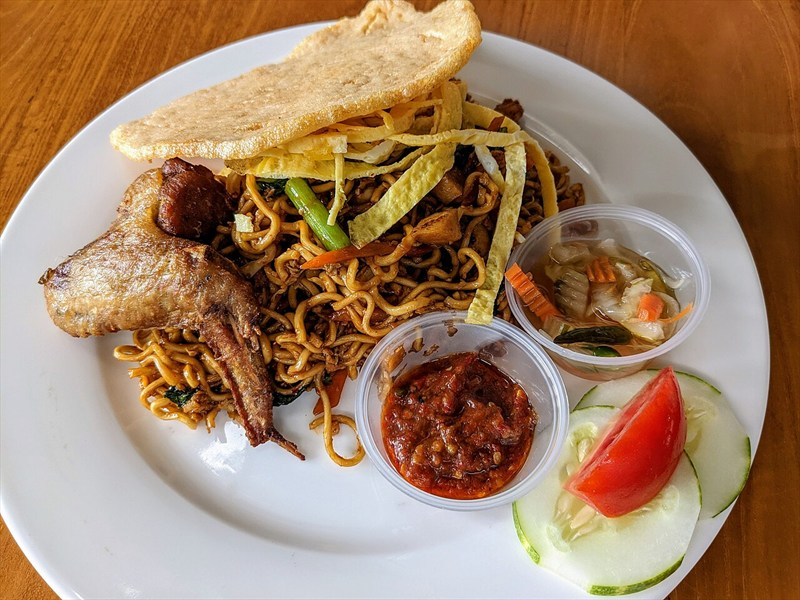Mie Goreng: (127, 99, 648, 496)
